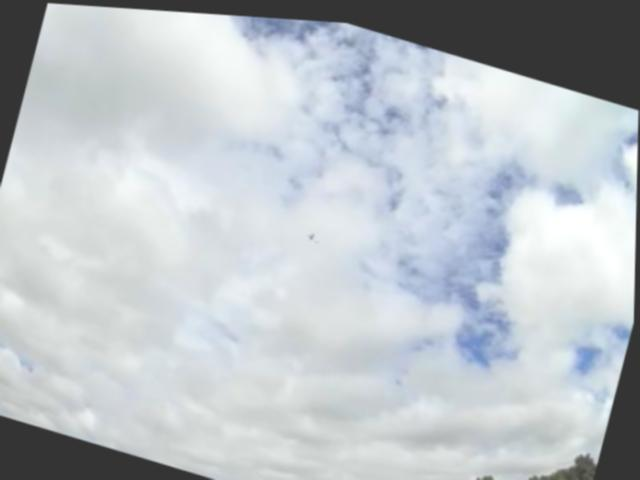uav: (300, 216, 330, 246)
